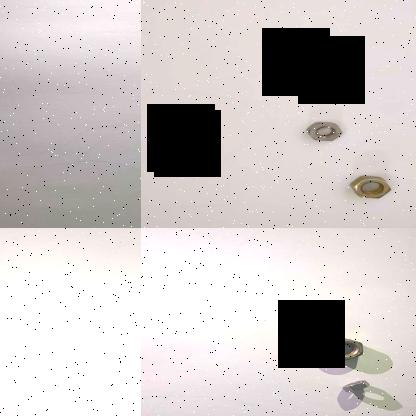NUTS: (304, 332, 376, 366), (298, 116, 352, 151), (344, 173, 400, 202), (333, 377, 375, 405)
